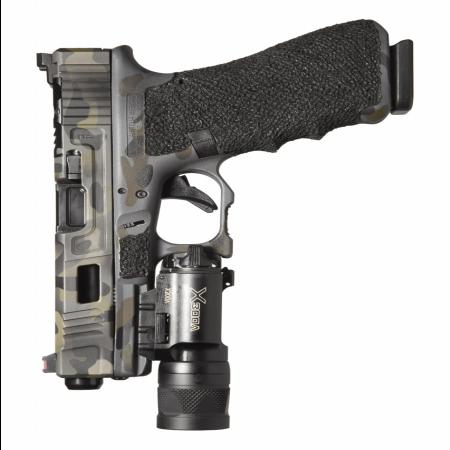Pistol: (34, 15, 417, 433)
